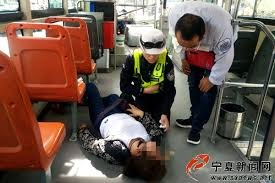falling: (70, 80, 175, 180)
